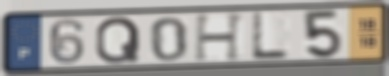0: (147, 15, 192, 62)
5: (300, 7, 346, 61)
6: (47, 17, 87, 67)
H: (192, 11, 248, 63)
L: (249, 11, 293, 62)
Q: (93, 15, 143, 66)
